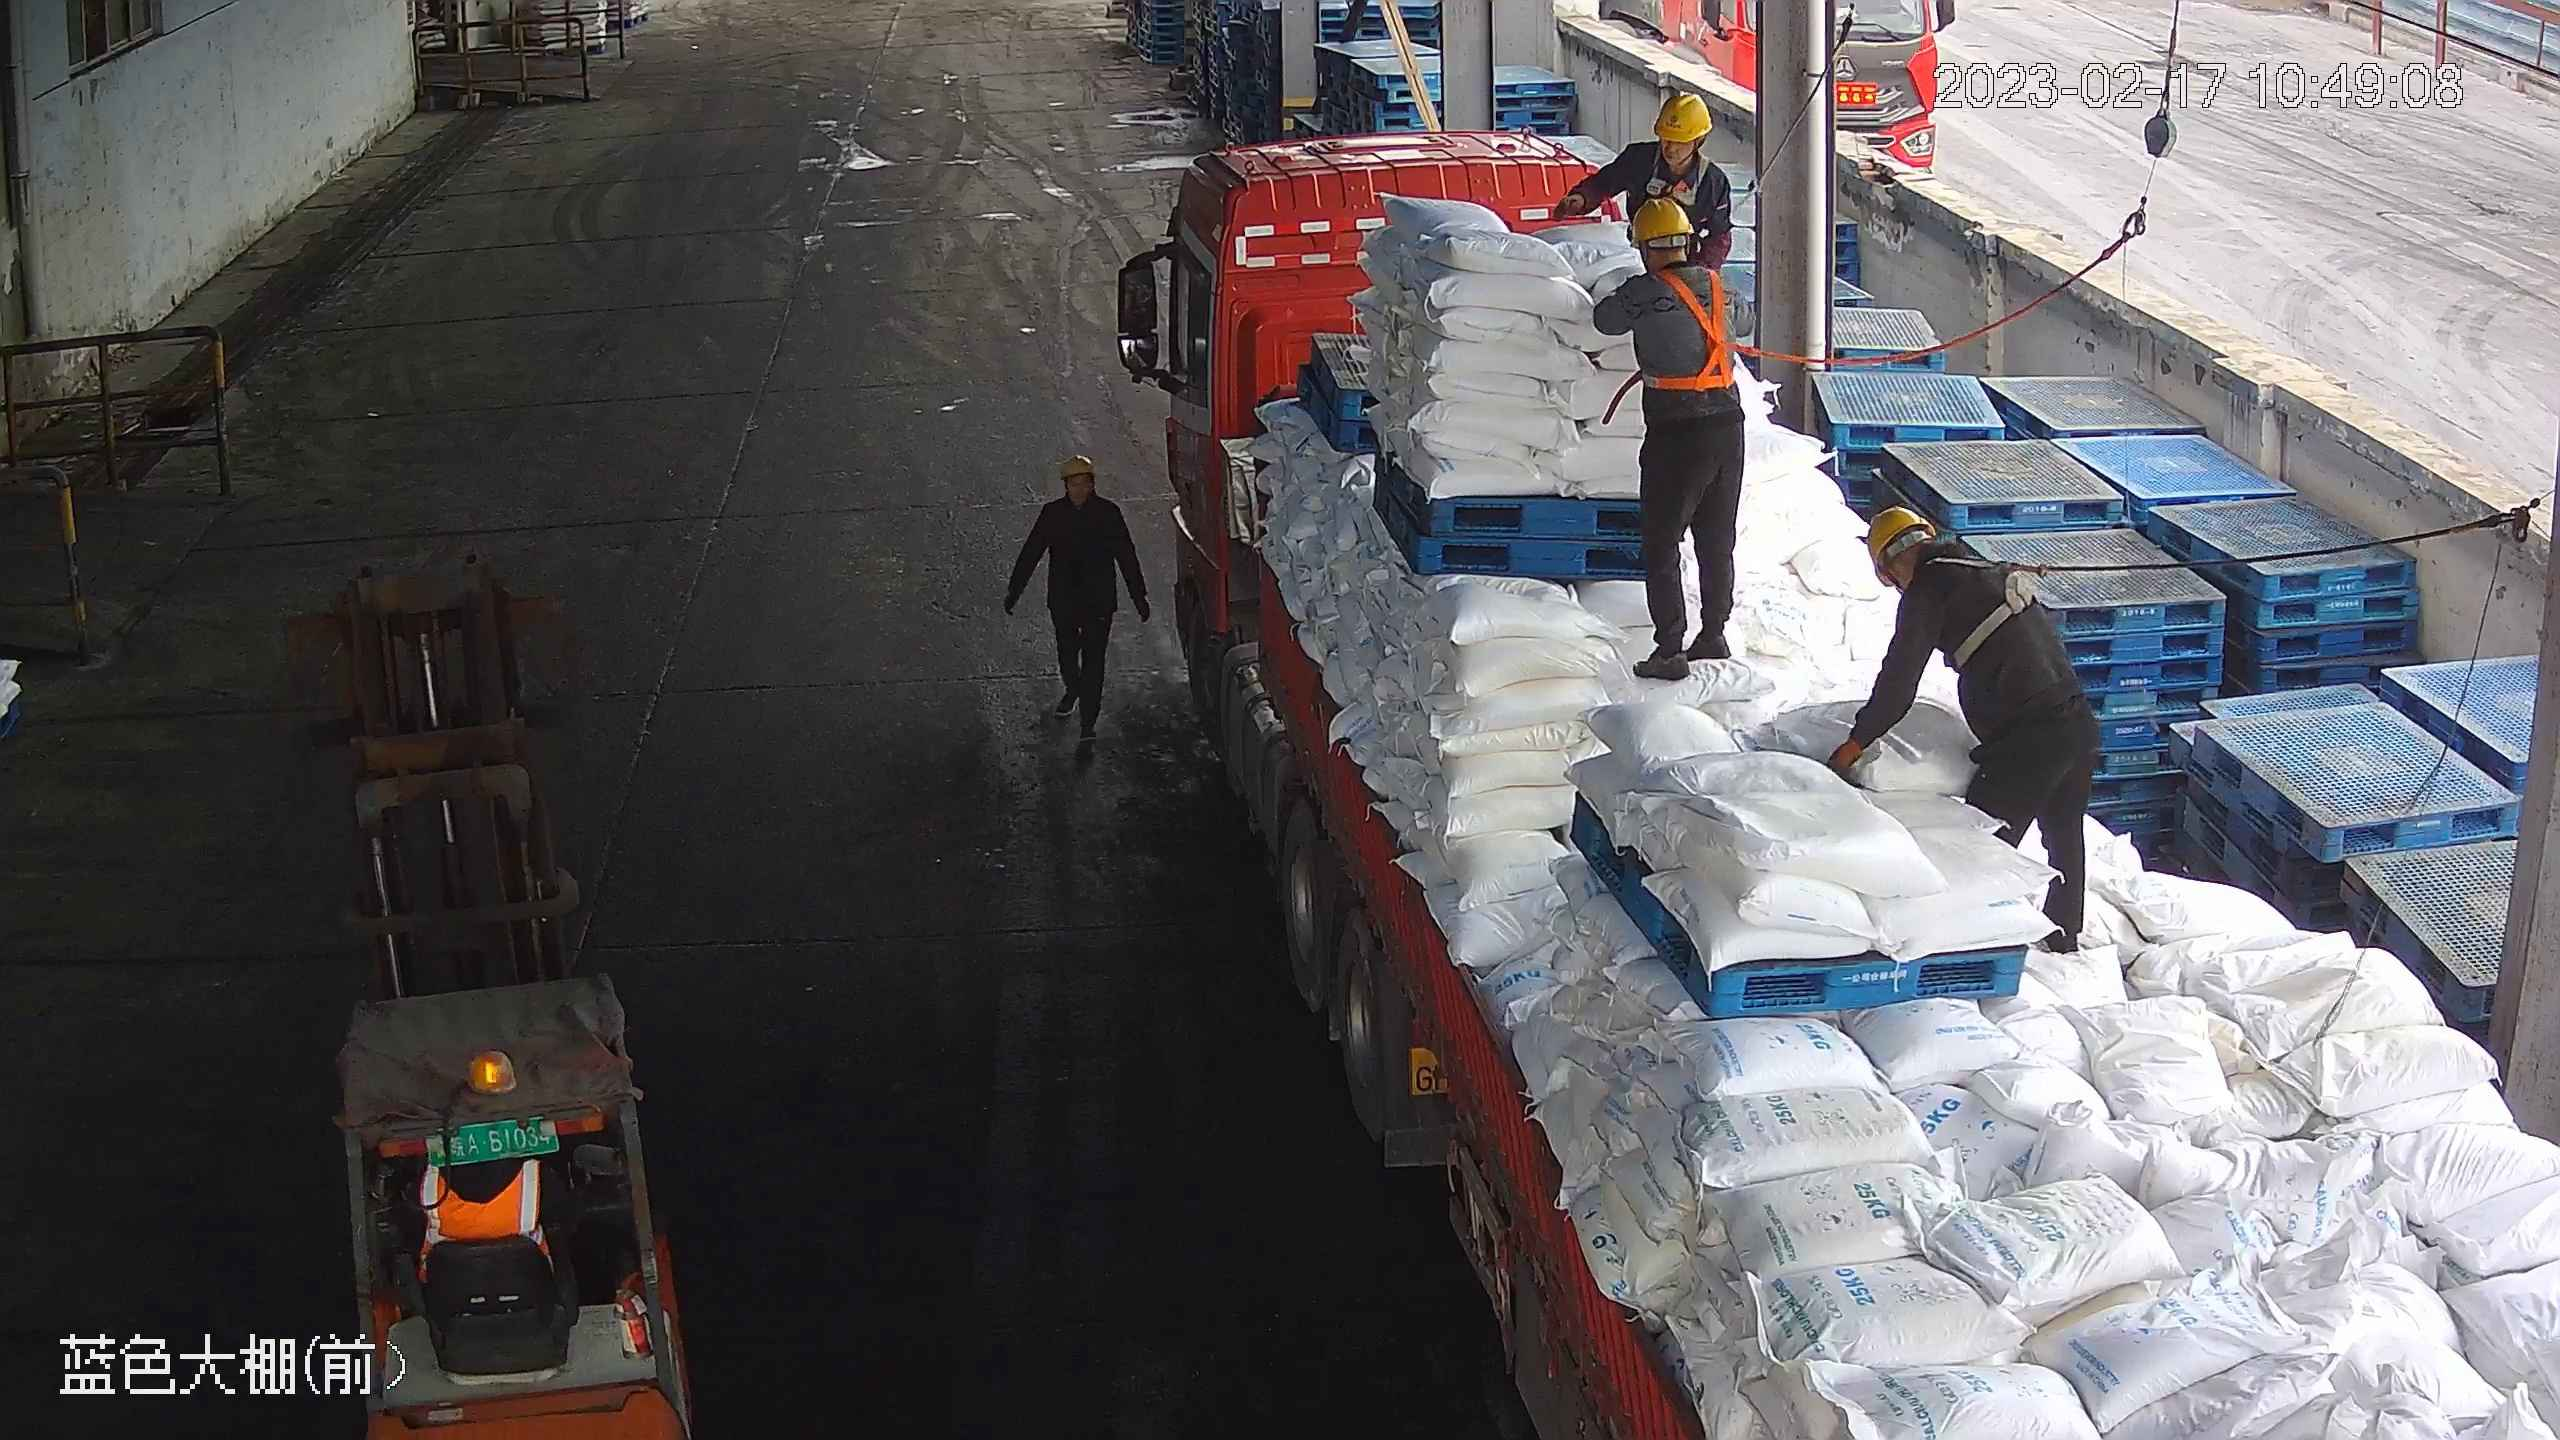belt: (1929, 543, 2056, 671), (1637, 264, 1753, 392), (1644, 144, 1710, 202)
head: (1606, 193, 1745, 324), (1865, 505, 2014, 620), (1612, 88, 1735, 197), (1040, 455, 1122, 537)
helmet: (1863, 506, 1935, 577), (1625, 192, 1695, 244), (1651, 88, 1712, 143), (1057, 454, 1098, 483)
people: (1829, 506, 2103, 962), (1585, 193, 1752, 681), (1001, 451, 1152, 756)
truck: (1097, 125, 2557, 1440)
